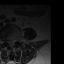CCS_normal: (10, 38, 12, 47)
LFS_normal: (15, 36, 17, 43)
LLS_normal: (12, 38, 14, 45)
RFS_normal: (5, 37, 8, 44)
RLS_normal: (8, 38, 10, 45)
